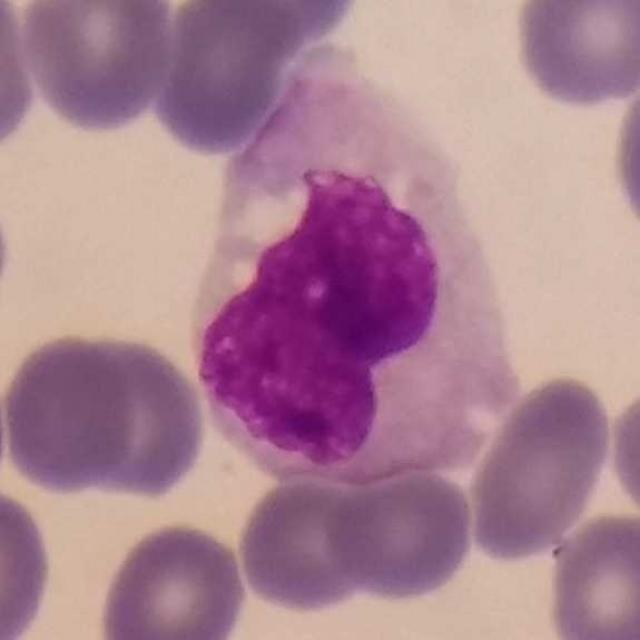Monocyte: (183, 55, 516, 485)
RBC: (463, 368, 617, 566), (62, 330, 212, 503), (150, 0, 307, 159), (1, 327, 140, 498), (15, 0, 179, 137), (320, 464, 478, 606), (232, 471, 378, 616), (92, 516, 252, 640), (506, 0, 639, 112), (542, 507, 640, 640), (182, 0, 368, 52), (0, 481, 58, 640), (606, 56, 640, 251), (0, 0, 39, 161), (605, 375, 640, 531)
